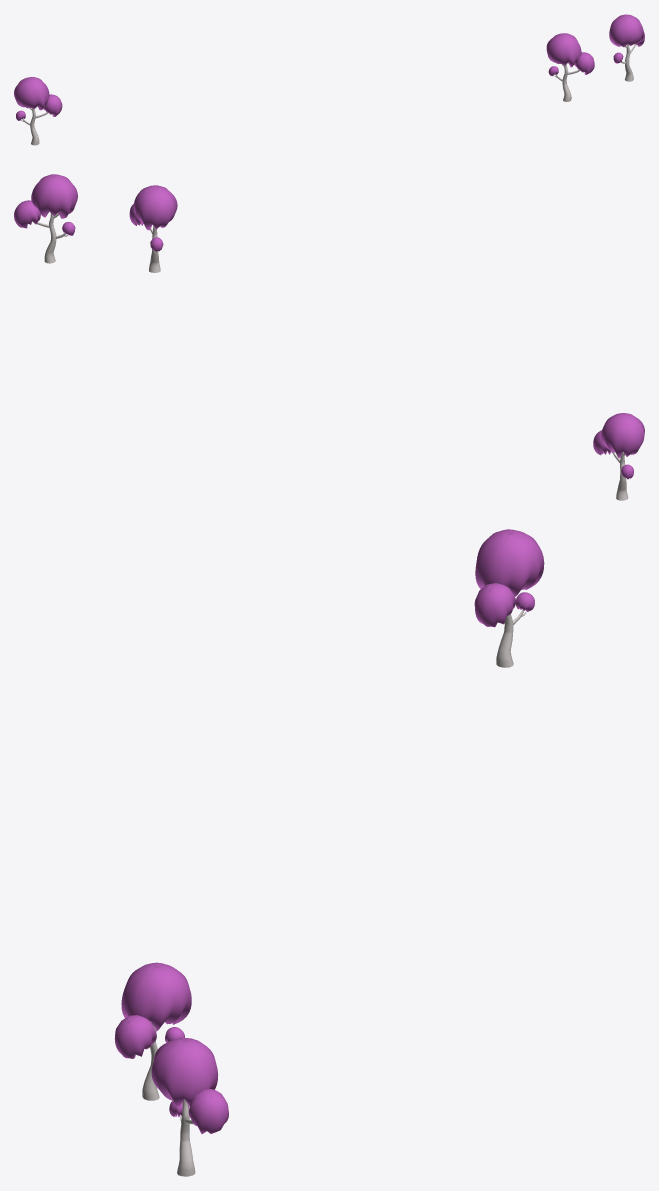
Rendered from purple_tree.fbx.
The picture shows the model from 3 angles, top to bottom: view 1: azimuth 30°, elevation 25°; view 2: azimuth 150°, elevation 25°; view 3: azimuth 270°, elevation 25°; orthographic projection. The views are drawn at different scales.
Visible parts, largest first — view 1: pt01_Leaves, pt03_Leaves, pt02_Leaves, pt02_Branches4; view 2: pt02_Leaves, pt03_Leaves, pt01_Leaves; view 3: pt03_Leaves, pt01_Leaves, pt02_Leaves.
Part boxes in pixels (left/top/right/bottom): pt01_Leaves: left=546, top=33, right=594, bottom=75; pt03_Leaves: left=14, top=77, right=62, bottom=120; pt02_Leaves: left=609, top=14, right=644, bottom=63; pt02_Branches4: left=625, top=44, right=633, bottom=81; pt02_Leaves: left=14, top=174, right=77, bottom=235; pt03_Leaves: left=593, top=413, right=644, bottom=479; pt01_Leaves: left=129, top=185, right=177, bottom=252; pt03_Leaves: left=474, top=529, right=544, bottom=627; pt01_Leaves: left=114, top=962, right=191, bottom=1058; pt02_Leaves: left=151, top=1037, right=228, bottom=1134.
Size of the model in its own units: 177 by 20.93 by 59.75.
